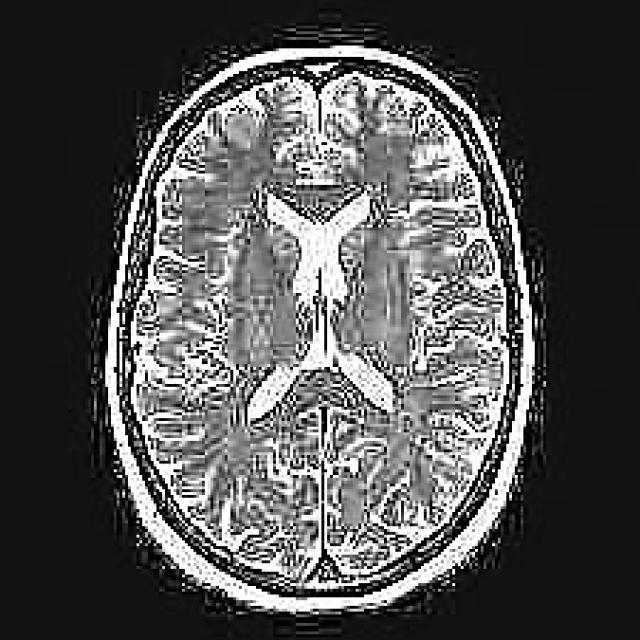notumor: (102, 46, 523, 609)
